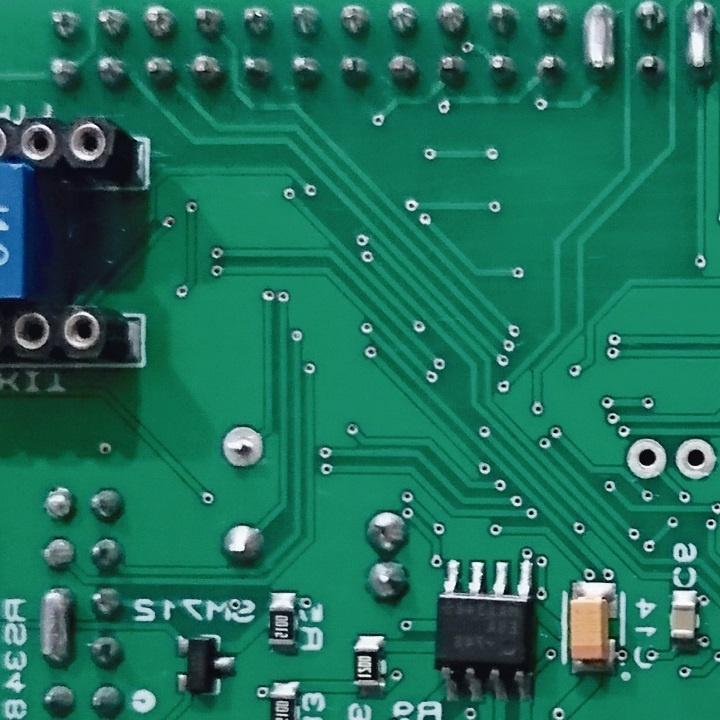F: (220, 423, 266, 470), (674, 435, 718, 482), (624, 435, 669, 480)
P: (35, 581, 76, 673), (578, 1, 620, 88), (680, 1, 719, 86)
